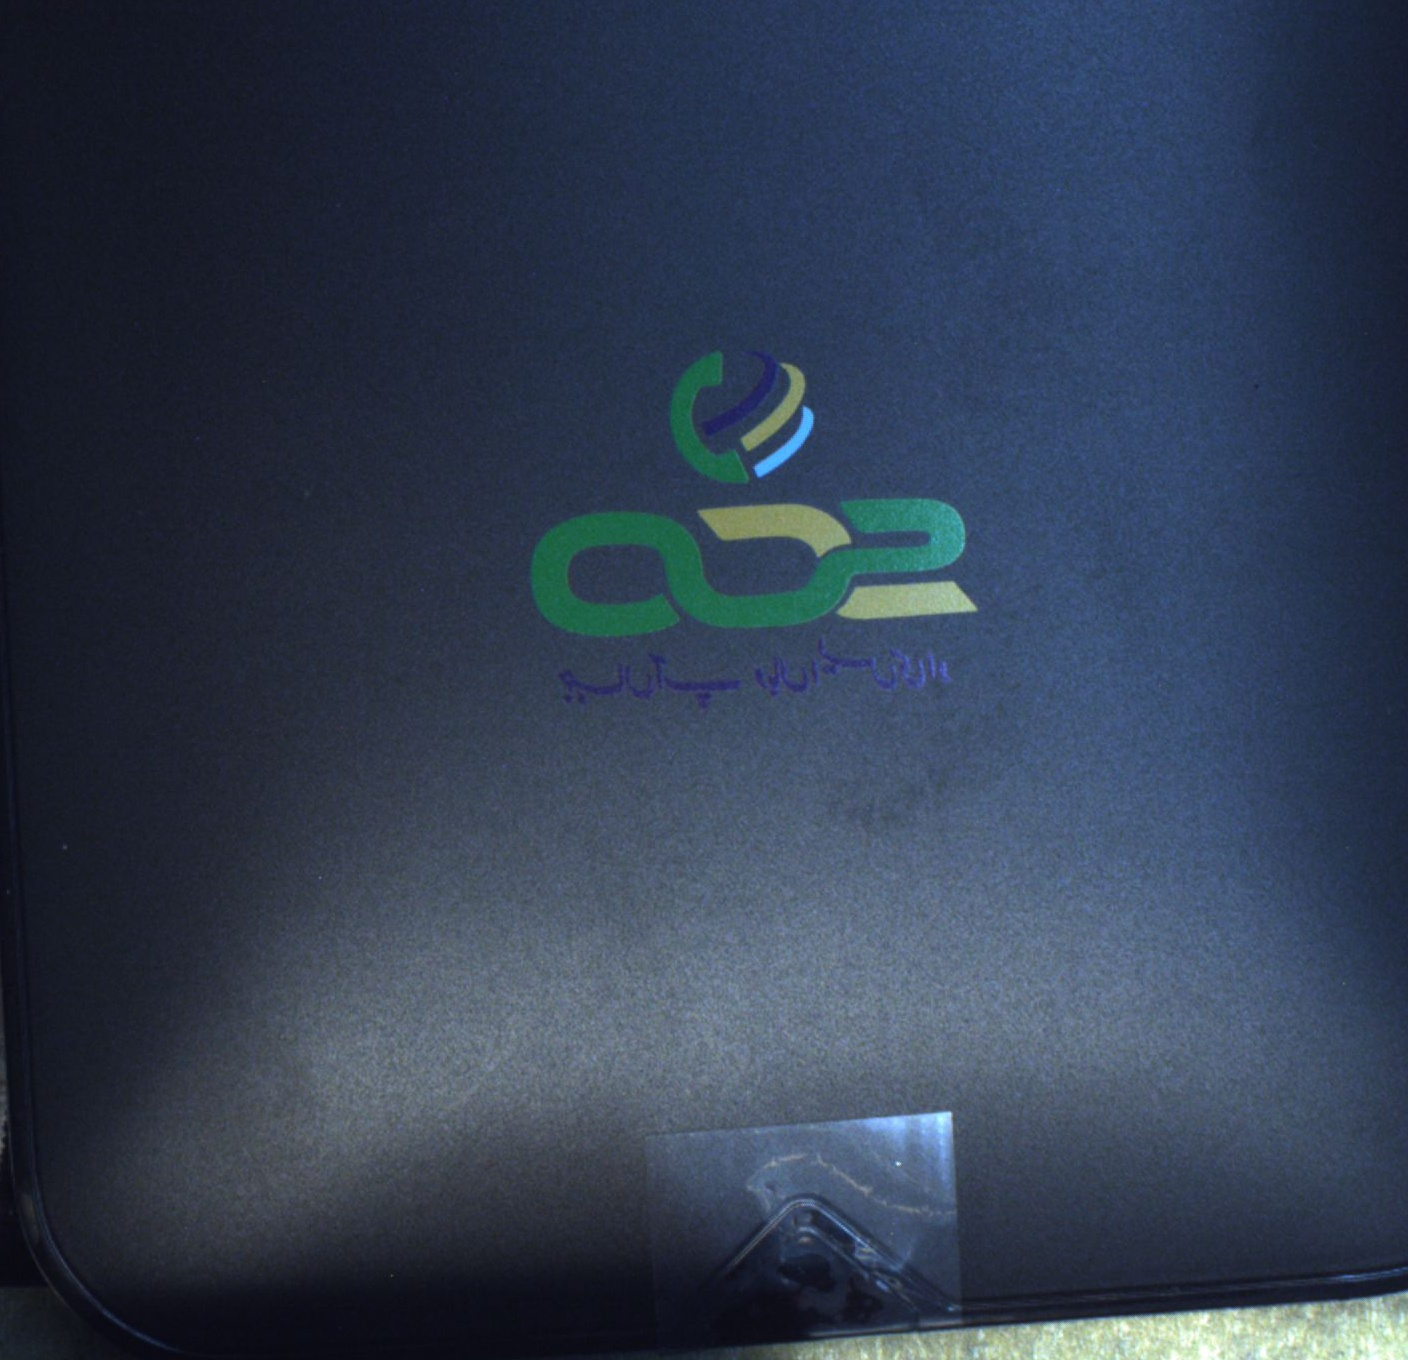BZ_HG680PSCOFirbeHome: (509, 336, 1006, 743)
